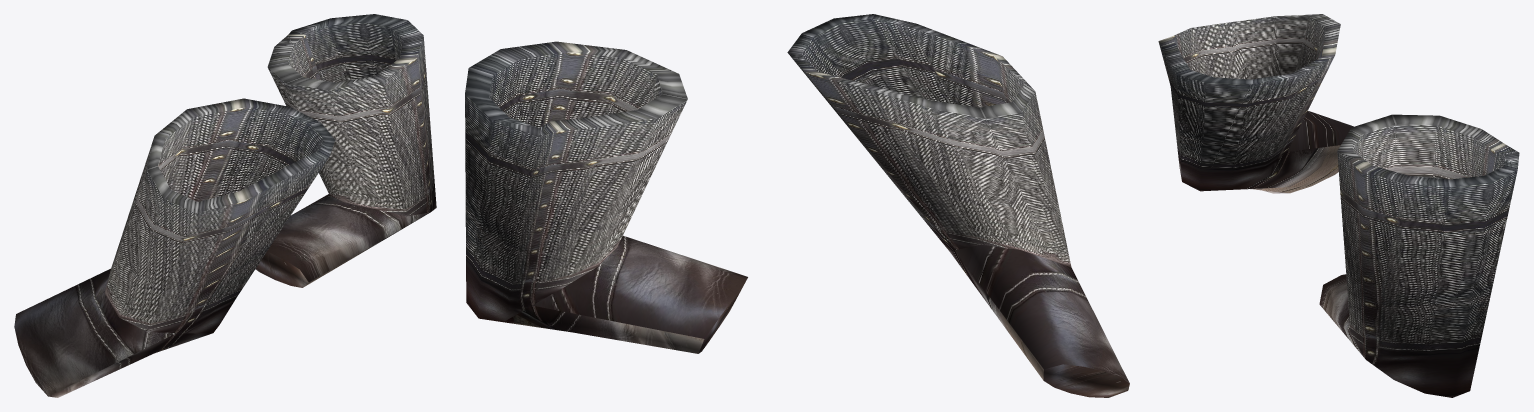
File: m-shoes3.fbx
3 views of the same model, side by side, from view 1: azimuth 30°, elevation 25°; view 2: azimuth 150°, elevation 25°; view 3: azimuth 270°, elevation 25° (orthographic). The views are drawn at different scales.
Visible parts, largest first — view 1: M.Shoes.013; view 2: M.Shoes.013; view 3: M.Shoes.013.
Part boxes in pixels (box(x1,y1,x2,y2)): M.Shoes.013: box(14, 14, 436, 397); M.Shoes.013: box(465, 14, 1129, 397); M.Shoes.013: box(1158, 14, 1519, 397).
Size of the model in its own units: 569 by 271 by 345.
